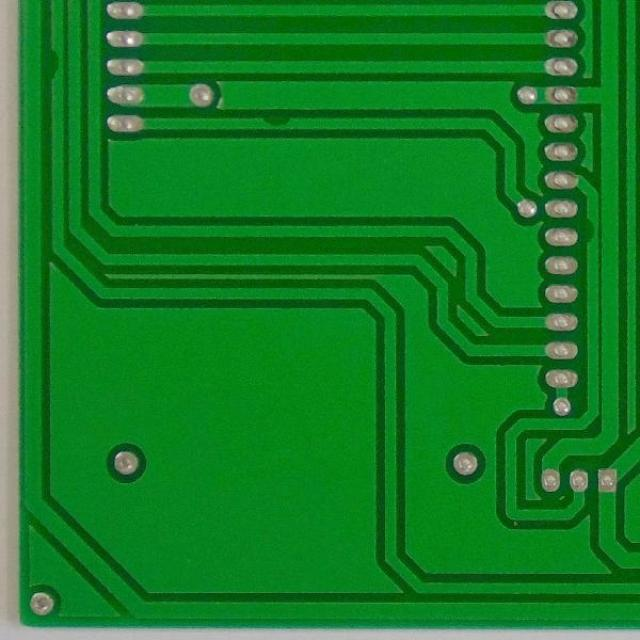mouse_bite: (258, 113, 298, 130), (582, 214, 600, 251), (48, 48, 62, 84)
